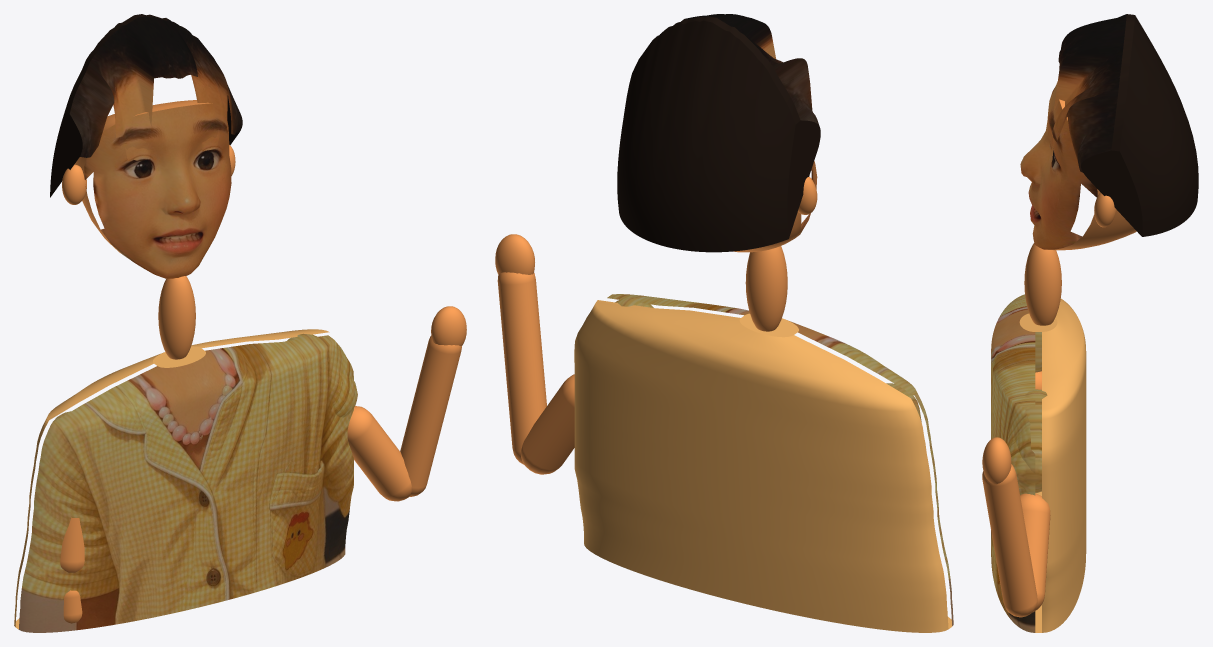
The model's file is portrait.glb.
3 views of the same model, side by side, from view 1: azimuth 30°, elevation 25°; view 2: azimuth 150°, elevation 25°; view 3: azimuth 270°, elevation 25° (orthographic). The views are drawn at different scales.
Visible parts, largest first — view 1: figure-surface-1, figure-surface-5, figure-surface-0, figure-surface-2, figure-surface-8, figure-surface-6; view 2: figure-surface-2, figure-surface-7, figure-surface-0, figure-surface-1, figure-surface-8, figure-surface-5, figure-surface-6; view 3: figure-surface-5, figure-surface-2, figure-surface-7, figure-surface-0, figure-surface-1, figure-surface-8, figure-surface-6, figure-surface-3.
Boxes of the visible parts, x1,y1,x2,y2 form: figure-surface-1: (18,333,357,632); figure-surface-5: (69,16,242,278); figure-surface-0: (60,276,466,623); figure-surface-2: (14,329,329,626); figure-surface-8: (50,14,239,197); figure-surface-6: (62,100,235,253); figure-surface-2: (574,300,948,632); figure-surface-7: (617,20,795,252); figure-surface-0: (495,234,787,474); figure-surface-1: (607,294,953,625); figure-surface-8: (653,16,820,238); figure-surface-5: (685,14,819,233); figure-surface-6: (733,176,817,252); figure-surface-5: (1020,14,1126,249); figure-surface-2: (1042,298,1086,632); figure-surface-7: (1120,15,1198,236); figure-surface-0: (982,243,1061,617); figure-surface-1: (991,294,1047,632); figure-surface-8: (1081,14,1142,236); figure-surface-6: (1048,99,1136,250); figure-surface-3: (1019,313,1057,331).
Size of the model in its own units: 2.54 by 3.06 by 1.12.
Materials: 9 (2 with a texture image).
